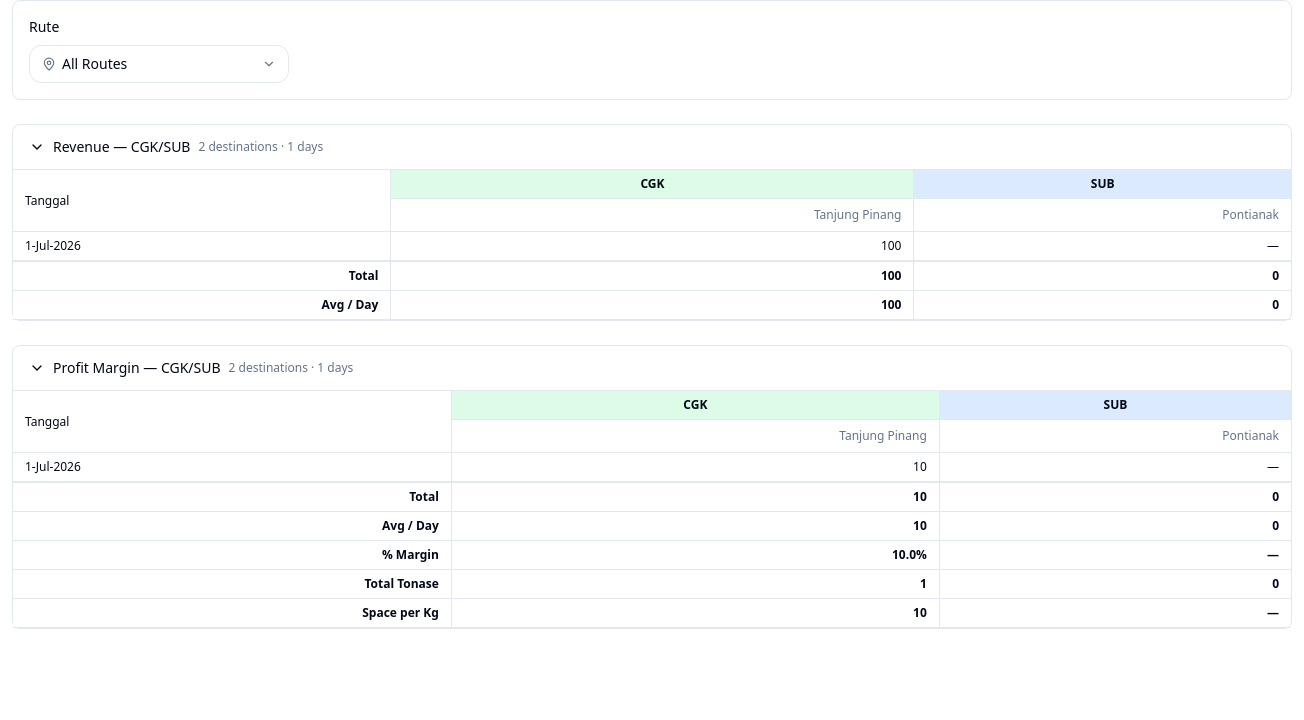
Test: PnlDailyMatrixView › offers every route from the master, labelled by airport code
Click the button "All Routes". click: x=95, y=64
box: x1=29 y1=45 x2=289 y2=83
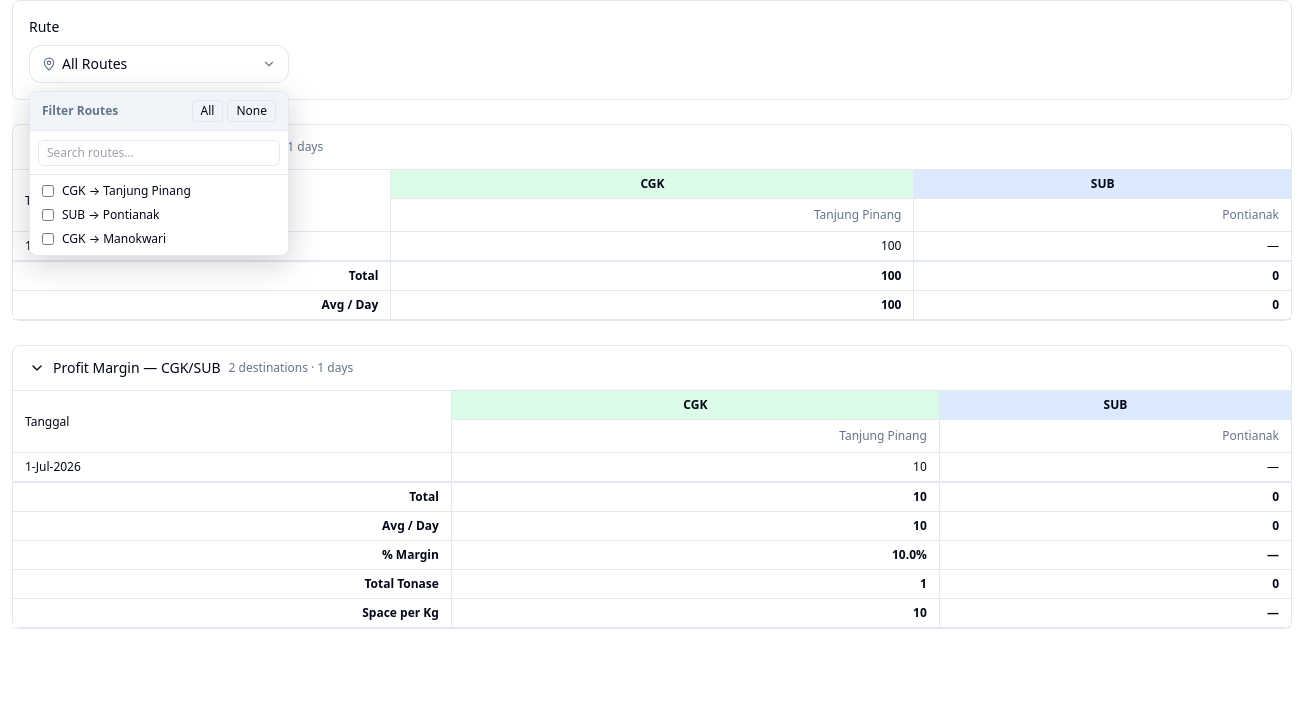
Now the checkbox labelled "CGK → Tanjung Pinang" is shown, box x1=42 y1=185 x2=54 y2=197
Now the checkbox labelled "SUB → Pontianak" is shown, box x1=42 y1=209 x2=54 y2=221
Now the checkbox labelled "CGK → Manokwari" is shown, box x1=42 y1=233 x2=54 y2=245
